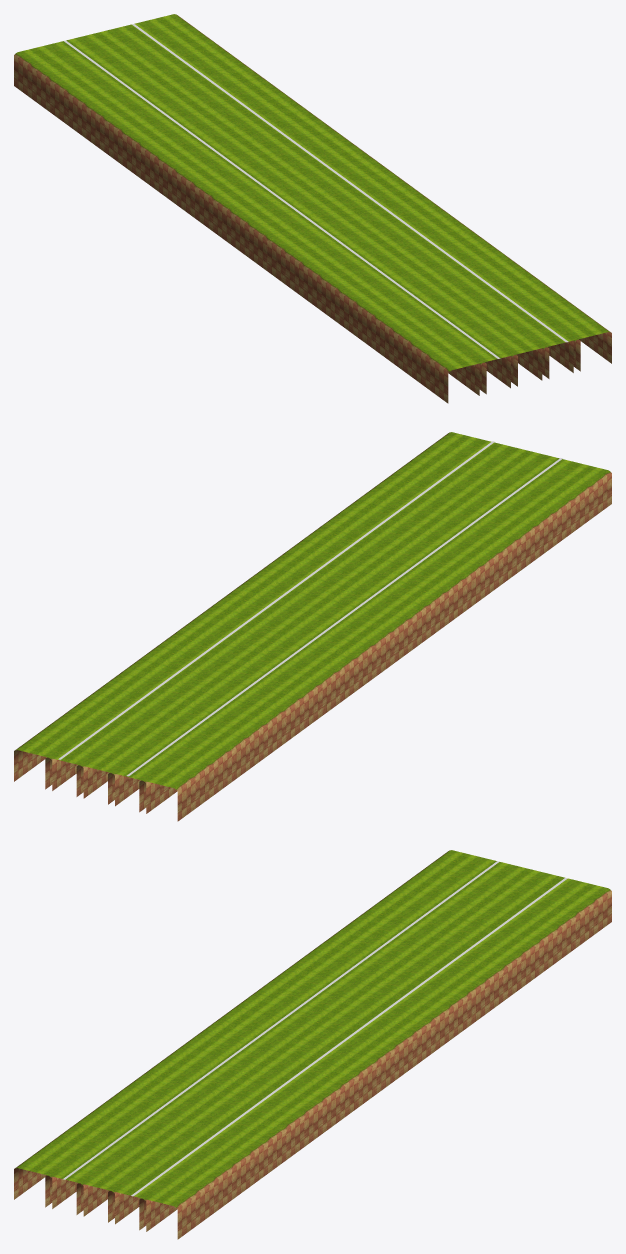
Rendered from Floor.fbx.
3 views of the same model, one above another, from view 1: azimuth 30°, elevation 25°; view 2: azimuth 150°, elevation 25°; view 3: azimuth 330°, elevation 25° (orthographic).
Visible parts, largest first — view 1: Floor_1; view 2: Floor_1; view 3: Floor_1.
Boxes of the visible parts, left/top/right/bottom form: Floor_1: left=14, top=14, right=611, bottom=403; Floor_1: left=14, top=432, right=611, bottom=821; Floor_1: left=14, top=850, right=611, bottom=1239.
Bounding box in the file's own units: 13054 × 2527 × 60116.
3 materials, 1 textured.
